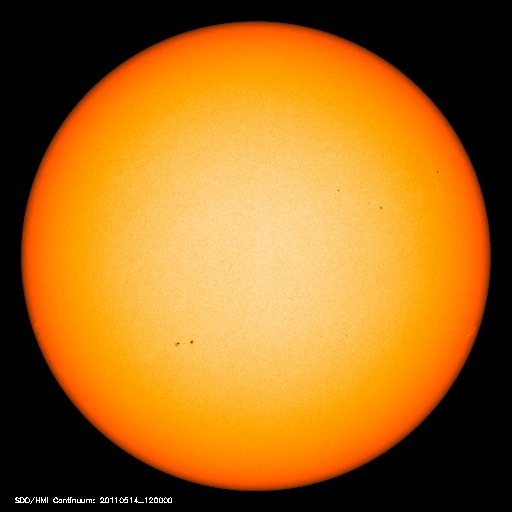sunspot: (328, 180, 397, 217), (163, 327, 202, 358), (418, 159, 455, 185)
